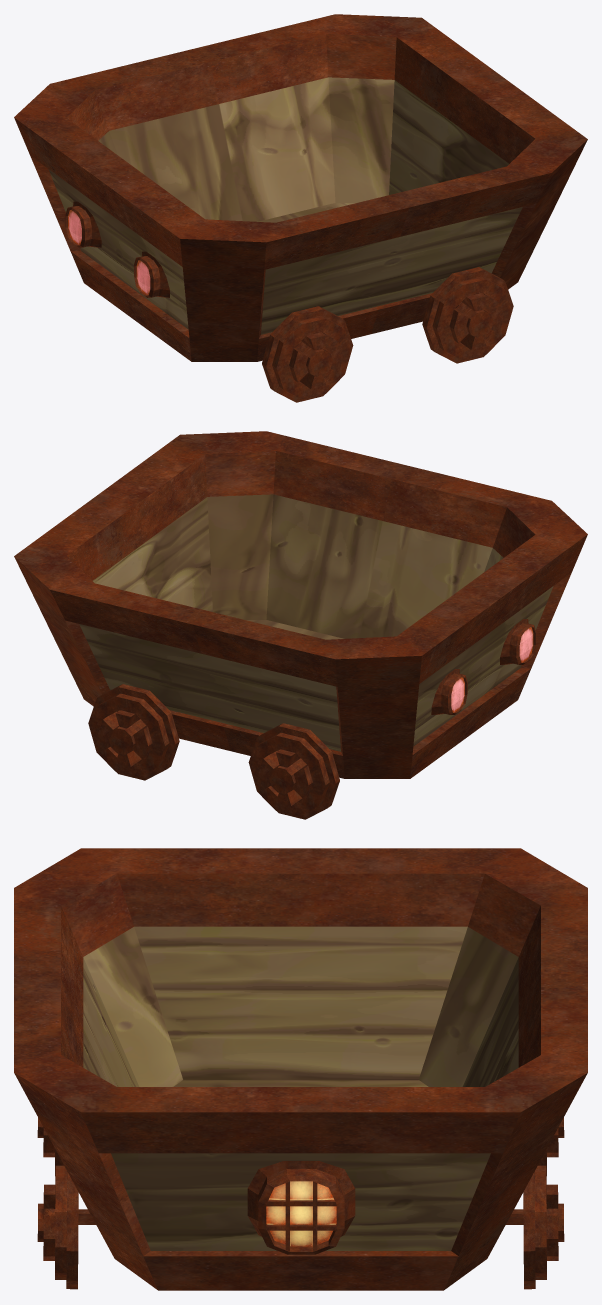
The model's file is Vagoneta.fbx.
3 views of the same model, one above another, from view 1: azimuth 30°, elevation 25°; view 2: azimuth 150°, elevation 25°; view 3: azimuth 270°, elevation 25° (orthographic). The views are drawn at different scales.
Visible parts, largest first — view 1: Vagoneta, rueda.003, rueda, Luz-trasera.001, Luz-trasera.002; view 2: Vagoneta, rueda.001, rueda.002, Luz-trasera.001, Luz-trasera.002; view 3: Vagoneta, Luz-delantera, rueda.001, rueda.003.
Boxes of the visible parts, bbox=[...] form: Vagoneta: bbox=[14, 14, 587, 361]; rueda.003: bbox=[422, 267, 513, 363]; rueda: bbox=[262, 306, 353, 402]; Luz-trasera.001: bbox=[65, 201, 101, 247]; Luz-trasera.002: bbox=[134, 251, 169, 297]; Vagoneta: bbox=[14, 431, 587, 778]; rueda.001: bbox=[88, 684, 179, 780]; rueda.002: bbox=[248, 723, 339, 819]; Luz-trasera.001: bbox=[431, 669, 467, 714]; Luz-trasera.002: bbox=[500, 619, 535, 664]; Vagoneta: bbox=[14, 848, 587, 1290]; Luz-delantera: bbox=[247, 1161, 355, 1254]; rueda.001: bbox=[523, 1165, 564, 1289]; rueda.003: bbox=[37, 1165, 78, 1289].
Bounding box in the file's own units: 137 × 59.83 × 126.
4 materials, 4 textured.
